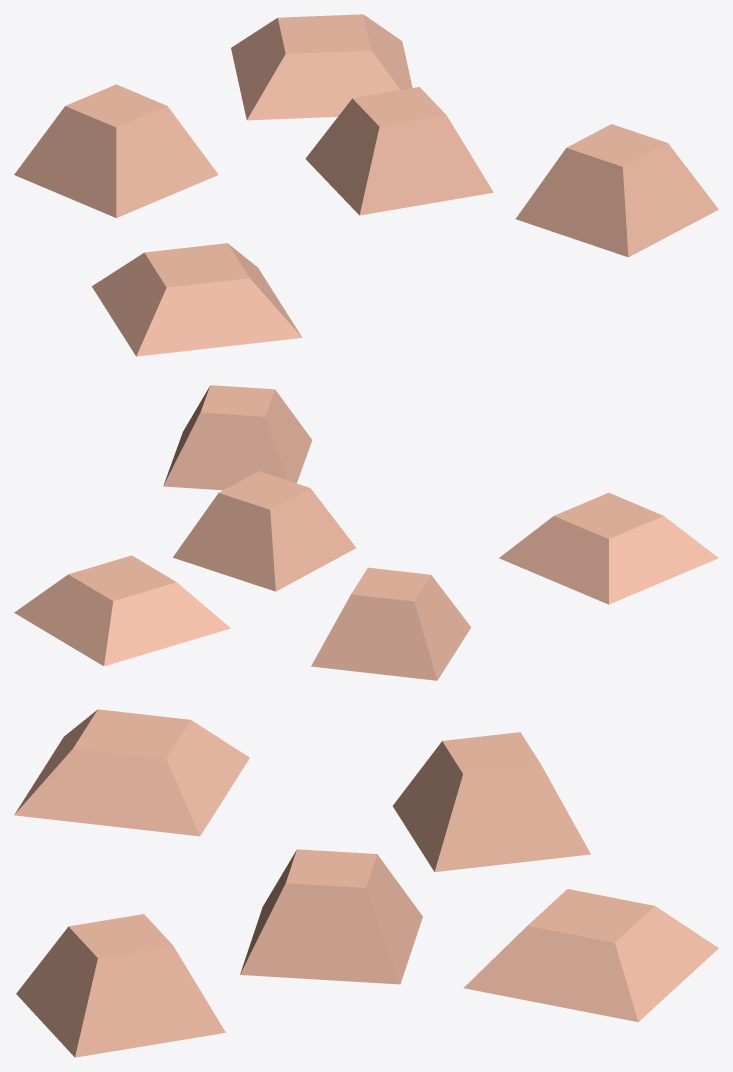
The model's file is rocks_smalla_lev1.glb.
The picture shows the model from 3 angles, top to bottom: view 1: azimuth 30°, elevation 25°; view 2: azimuth 150°, elevation 25°; view 3: azimuth 270°, elevation 25°; orthographic projection. The views are drawn at different scales.
Parts seen in each view (by area): view 1: rocks_smalla_lev1; view 2: rocks_smalla_lev1; view 3: rocks_smalla_lev1.
Part boxes in pixels (x1=…): rocks_smalla_lev1: x1=14, y1=14, x2=718, y2=356; rocks_smalla_lev1: x1=14, y1=385, x2=718, y2=680; rocks_smalla_lev1: x1=14, y1=709, x2=718, y2=1057.
Bounding box in the file's own units: 0.9372 × 0.1051 × 0.8698.
